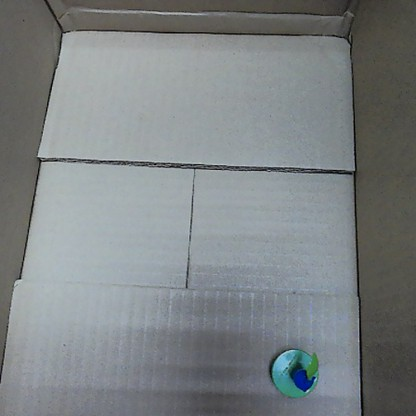leafairy: (267, 344, 319, 401)
